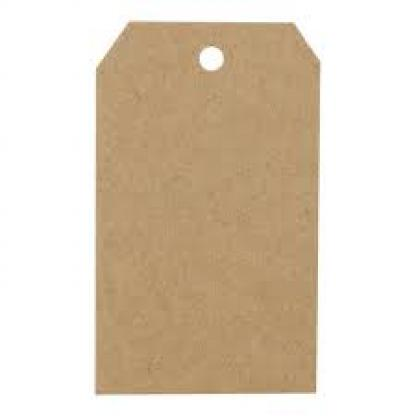CARDBOARD: (94, 20, 316, 392)
